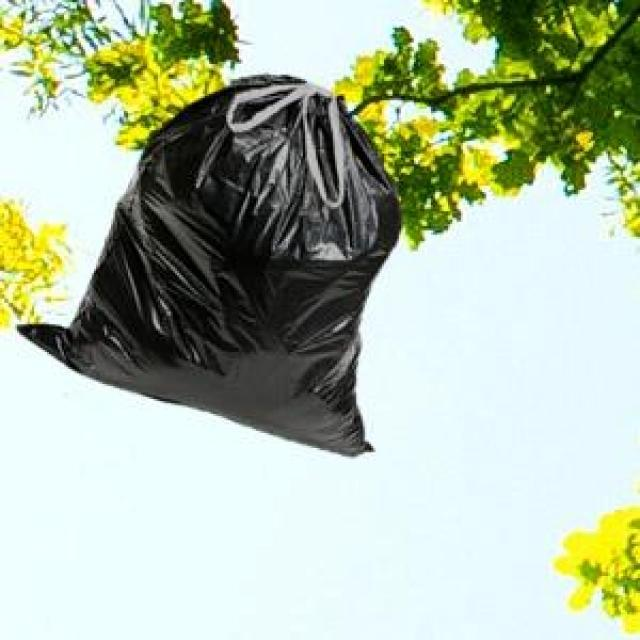Garbage_Bag: (14, 74, 398, 454)
